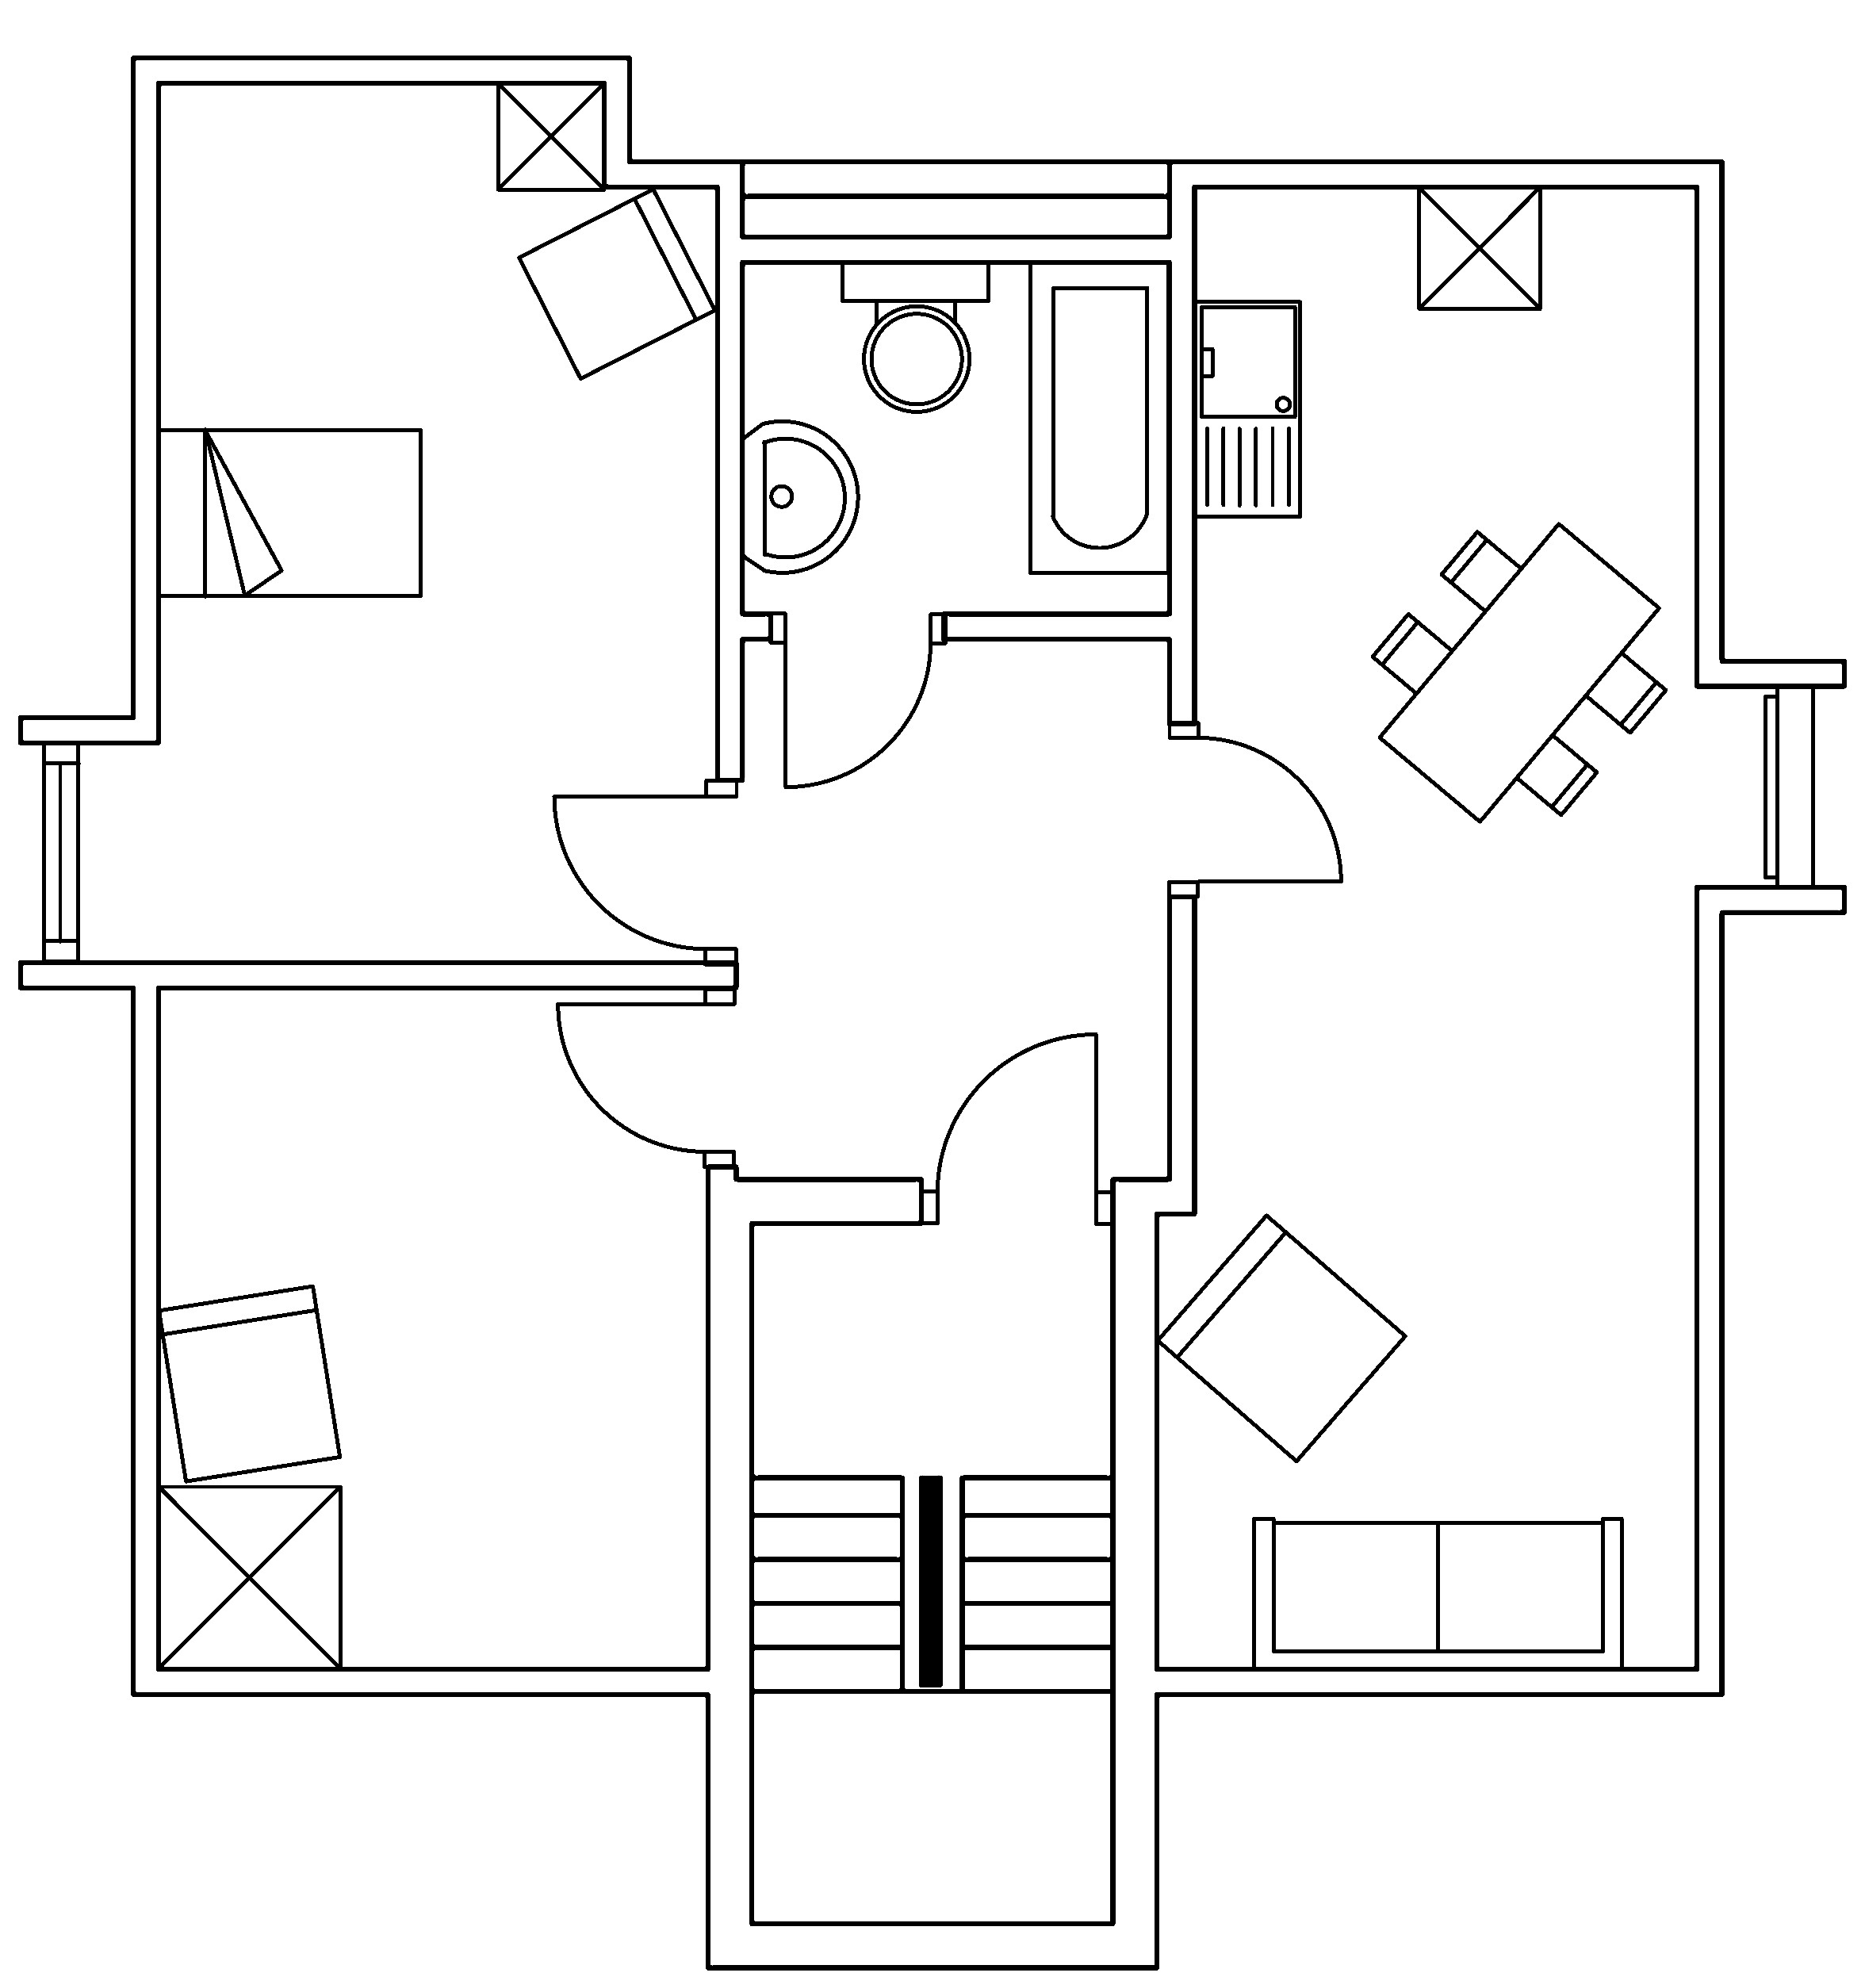bed: (154, 426, 424, 600)
coffee_table: (154, 1481, 342, 1671), (1416, 182, 1542, 310), (494, 79, 606, 191)
dining_table: (1369, 521, 1669, 824)
large_sink: (840, 258, 990, 412)
large_sofa: (1250, 1515, 1623, 1672)
sink: (1192, 298, 1302, 519)
small_sink: (740, 419, 859, 573)
small_sofa: (1153, 1211, 1408, 1464), (515, 186, 717, 380), (156, 1282, 342, 1483)
tub: (1027, 258, 1171, 575)
